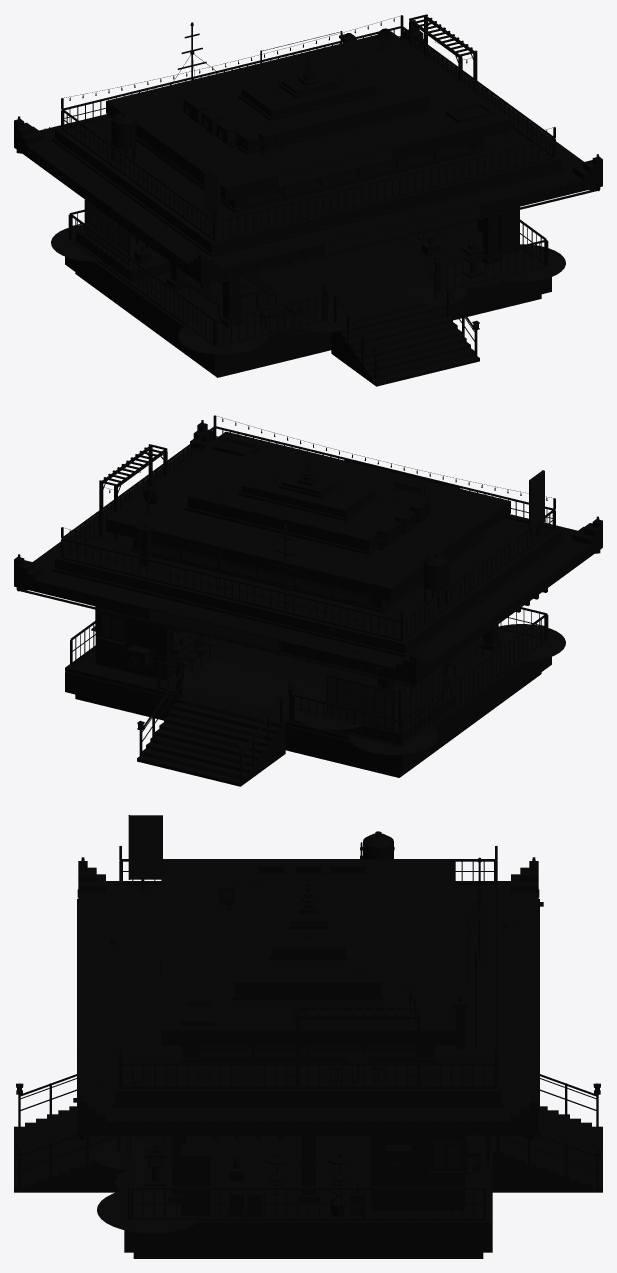
File: pavilion_57-DcKmEkuB.glb
The picture shows the model from 3 angles, top to bottom: view 1: azimuth 30°, elevation 25°; view 2: azimuth 150°, elevation 25°; view 3: azimuth 270°, elevation 25°; orthographic projection. The views are drawn at different scales.
Visible parts, largest first — view 1: body.57, glow.57, pool.57, glass.57; view 2: body.57, glow.57, pool.57, glass.57; view 3: body.57, glow.57, pool.57, glass.57.
Boxes of the visible parts, <box> form: body.57: <box>14,14,602,386</box>; glow.57: <box>17,20,599,376</box>; pool.57: <box>51,224,565,354</box>; glass.57: <box>248,104,499,240</box>; body.57: <box>14,415,602,786</box>; glow.57: <box>17,420,599,776</box>; pool.57: <box>153,624,565,754</box>; glass.57: <box>101,438,368,639</box>; body.57: <box>14,815,602,1258</box>; glow.57: <box>17,815,599,1170</box>; pool.57: <box>92,1135,479,1233</box>; glass.57: <box>186,1002,458,1168</box>.
Bounding box in the file's own units: 15.54 × 8.33 × 16.
Materials: 4 (4 with a texture image).
